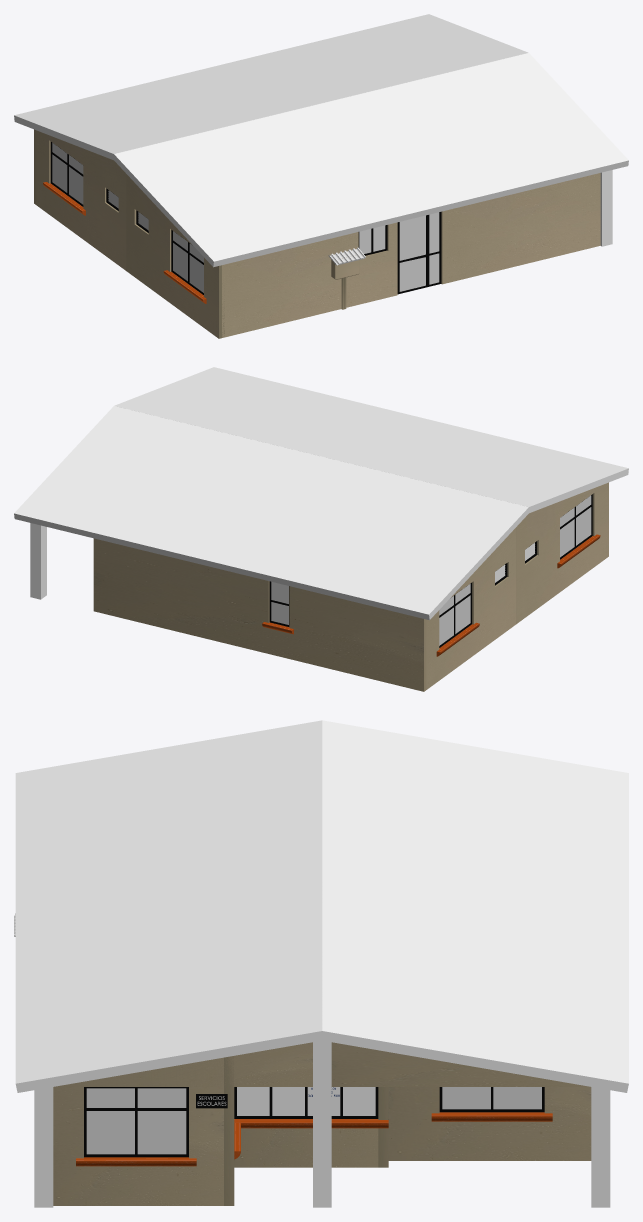
Rendered from ServiciosEscolares.fbx.
3 renders of one model, top to bottom at view 1: azimuth 30°, elevation 25°; view 2: azimuth 150°, elevation 25°; view 3: azimuth 270°, elevation 25°, orthographic. The views are drawn at different scales.
Parts seen in each view (by area): view 1: Techo.002, Techo.001, Pared.004, Pared.006, Pared.014, Pared.007, Ventana.008, Ventana.015, Ventana.021, Pilar.003, Ventana.024, Ventana.020; view 2: Techo.001, Techo.002, Pared.008, Pared.007, Pared.014, Ventana.015, Ventana.008, Pilar.002; view 3: Techo.002, Techo.001, Pared.003, Pared.010, Ventana.001, Pared.012, Pared.001, Pared.013, Pilar.001, Ventana.003, Pilar.003, Pilar.002 (+8 smaller).
Boxes of the visible parts, <box> form: Techo.002: <box>113,53,628,267</box>; Techo.001: <box>14,14,528,159</box>; Pared.004: <box>441,173,600,284</box>; Pared.006: <box>222,222,397,337</box>; Pared.014: <box>37,131,126,270</box>; Pared.007: <box>126,174,224,338</box>; Ventana.008: <box>50,141,83,206</box>; Ventana.015: <box>171,230,203,294</box>; Ventana.021: <box>399,215,425,260</box>; Pilar.003: <box>600,170,612,246</box>; Ventana.024: <box>399,257,425,291</box>; Ventana.020: <box>398,212,439,292</box>; Techo.001: <box>14,406,529,620</box>; Techo.002: <box>114,367,628,512</box>; Pared.008: <box>93,538,427,691</box>; Pared.007: <box>516,482,608,623</box>; Pared.014: <box>427,527,516,689</box>; Ventana.015: <box>560,494,592,559</box>; Ventana.008: <box>439,582,471,647</box>; Pilar.002: <box>30,523,46,599</box>; Techo.002: <box>15,720,322,1092</box>; Techo.001: <box>320,720,628,1092</box>; Pared.003: <box>53,1057,223,1205</box>; Pared.010: <box>388,1087,591,1160</box>; Ventana.001: <box>84,1087,188,1157</box>; Pared.012: <box>331,1042,590,1086</box>; Pared.001: <box>234,1128,378,1167</box>; Pared.013: <box>56,1042,312,1086</box>; Pilar.001: <box>313,1040,331,1207</box>; Ventana.003: <box>439,1087,544,1112</box>; Pilar.003: <box>34,1087,53,1207</box>; Pilar.002: <box>591,1087,610,1207</box>.
Bounding box in the file's own units: 1400 × 387 × 1171.
